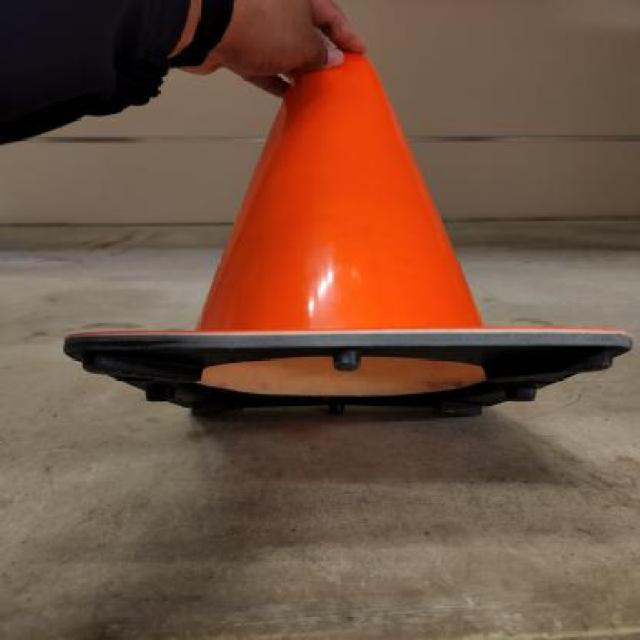traffic cone: (45, 33, 637, 442)
